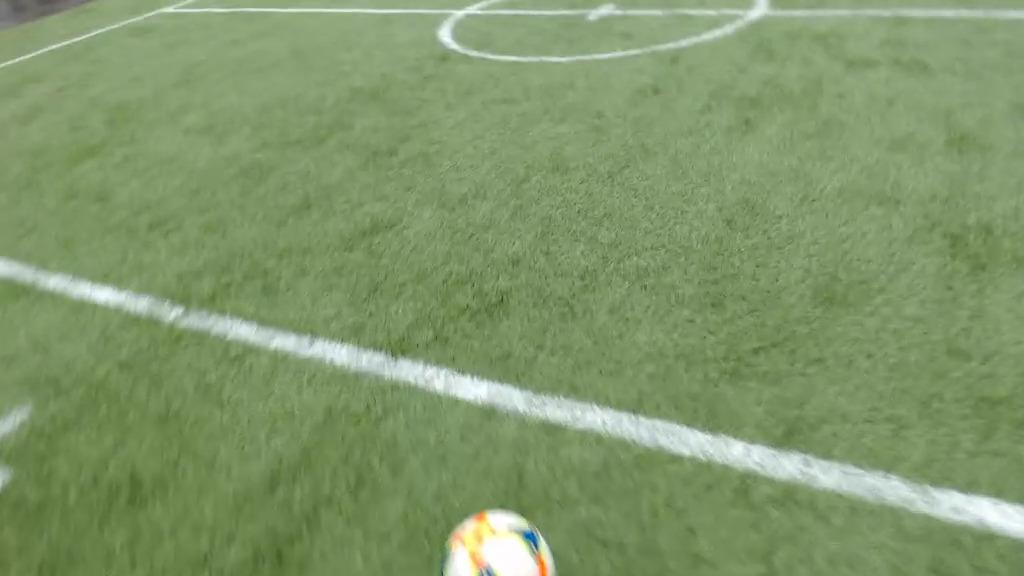ball: (440, 509, 556, 576)
